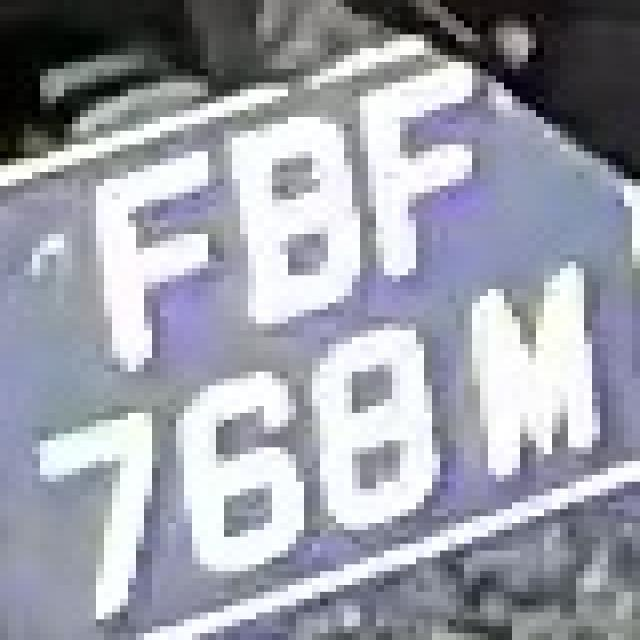6: (168, 351, 328, 599)
7: (24, 392, 160, 633)
8: (296, 303, 432, 537)
B: (200, 96, 384, 310)
F: (80, 130, 232, 372), (352, 62, 512, 282)
M: (440, 254, 624, 496)
